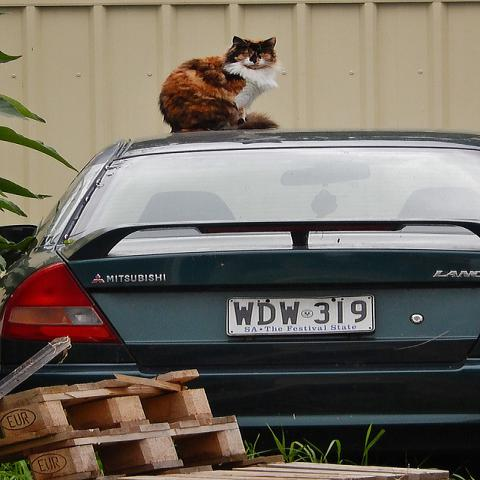car: (1, 136, 476, 459)
